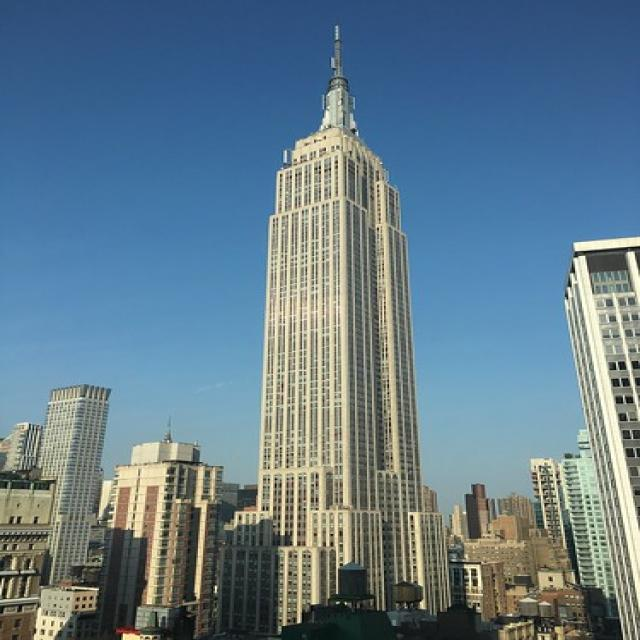building: (256, 53, 454, 638), (103, 430, 228, 640)
